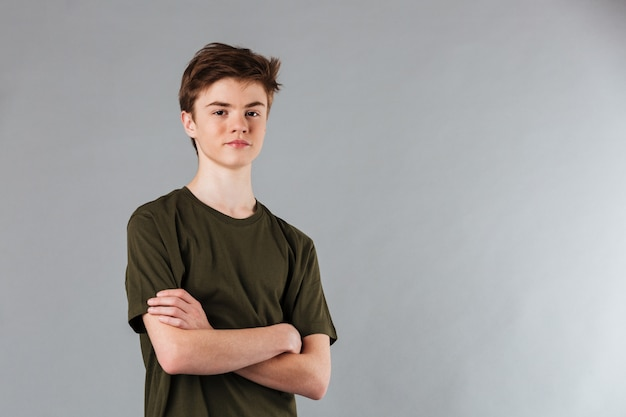teen: (175, 28, 295, 179)
